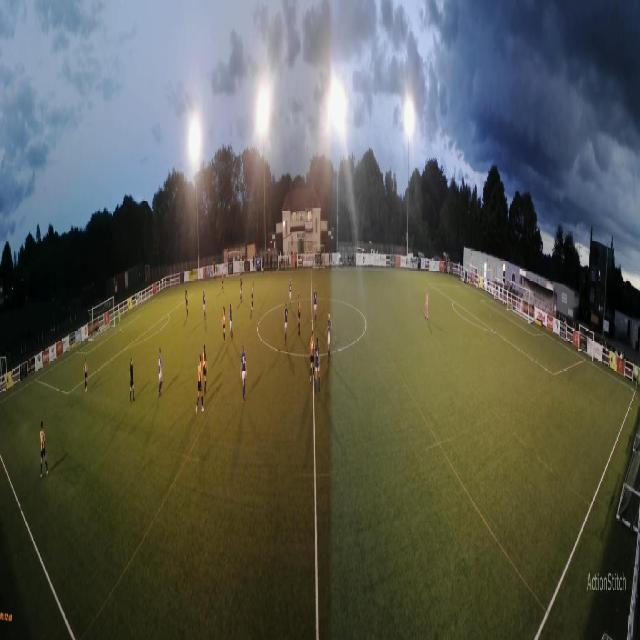ball: (122, 329, 123, 334)
player: (196, 353, 205, 415), (40, 420, 49, 478), (240, 345, 247, 403), (326, 313, 333, 364), (315, 336, 321, 393), (310, 328, 316, 384), (202, 345, 208, 396), (158, 347, 164, 397), (130, 357, 136, 403), (283, 302, 289, 346), (83, 358, 89, 394), (313, 285, 318, 326), (228, 303, 233, 342), (297, 292, 301, 337), (222, 306, 226, 344), (203, 291, 207, 322), (425, 290, 429, 321), (251, 280, 255, 310), (184, 290, 188, 317), (118, 308, 122, 332), (289, 279, 292, 310), (240, 278, 243, 304), (222, 270, 224, 294)
